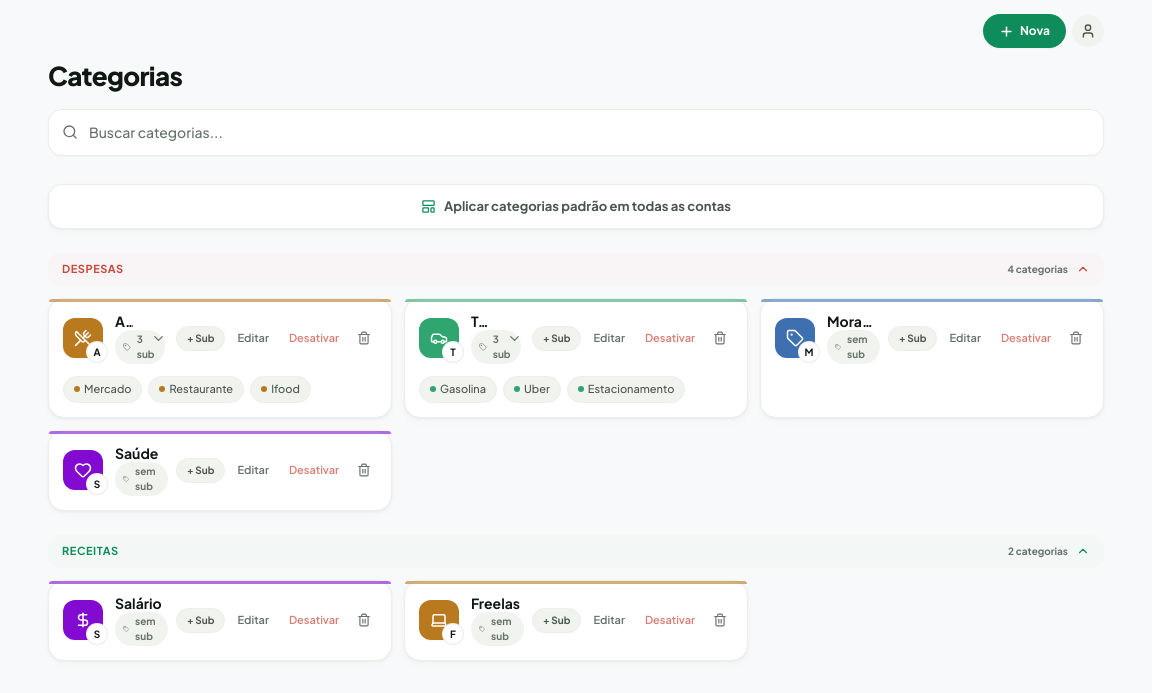
Test case: CategoriesPage – Redesign Moderno (TDD RED) › ao abrir Nova categoria, exibe seletor de ícones organizado por grupo
The image size is (1152, 693).
Click the button "Nova".
click(1024, 31)  # box [983,14,1066,48]
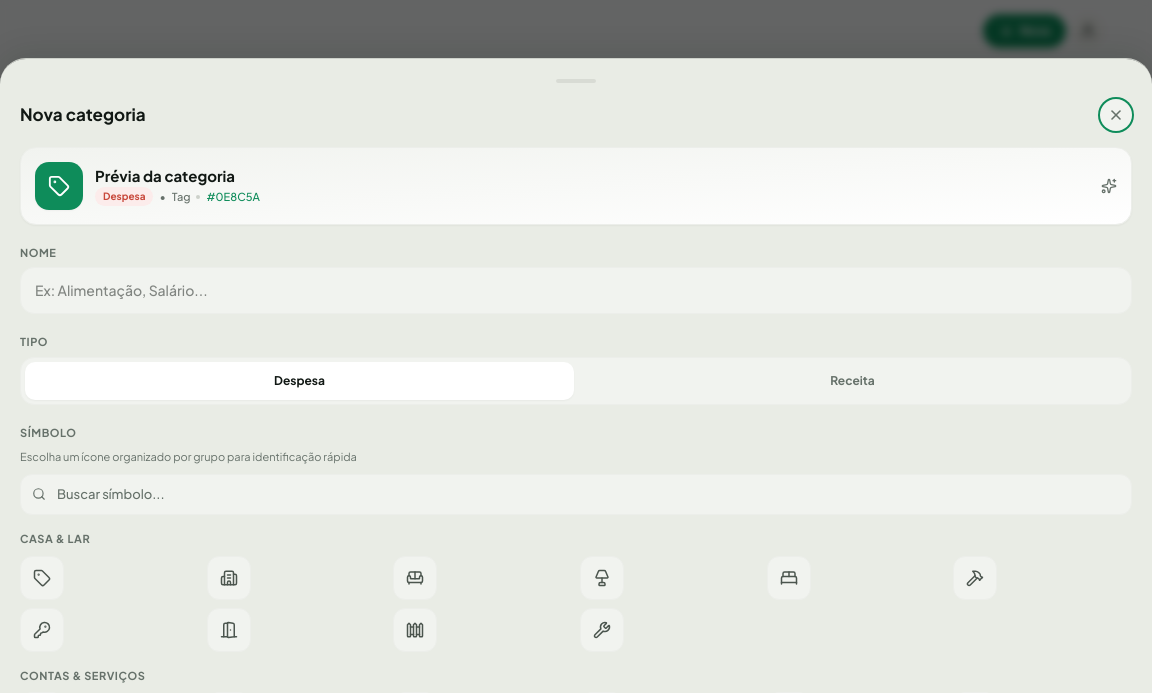
Expected: the text "Casa & Lar" is shown, [20,532,90,545]
